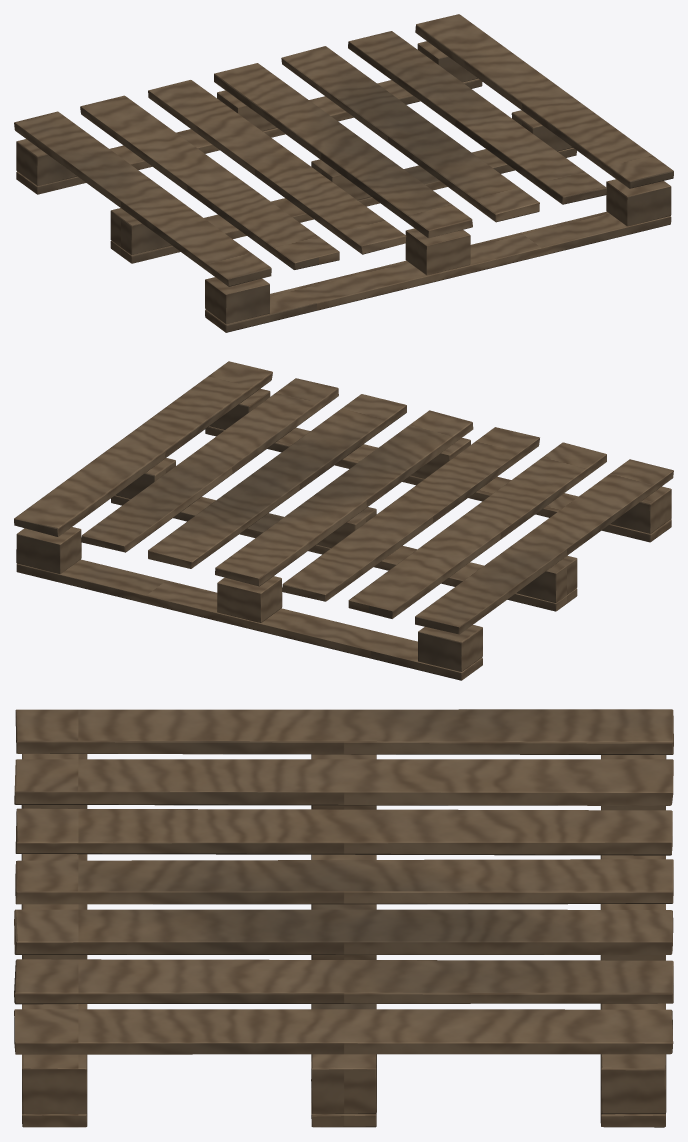
Rendered from F08_wooden_pallet.glb.
3 views of the same model, one above another, from view 1: azimuth 30°, elevation 25°; view 2: azimuth 150°, elevation 25°; view 3: azimuth 270°, elevation 25° (orthographic). The views are drawn at different scales.
Parts seen in each view (by area): view 1: F08_wooden_pallet; view 2: F08_wooden_pallet; view 3: F08_wooden_pallet.
Part boxes in pixels (x1,y1,x2,y2): F08_wooden_pallet: (14,14,673,332); F08_wooden_pallet: (14,361,673,680); F08_wooden_pallet: (14,709,673,1127).
Bounding box in the file's own units: 1.2 × 0.1453 × 1.
1 material, 1 textured.
